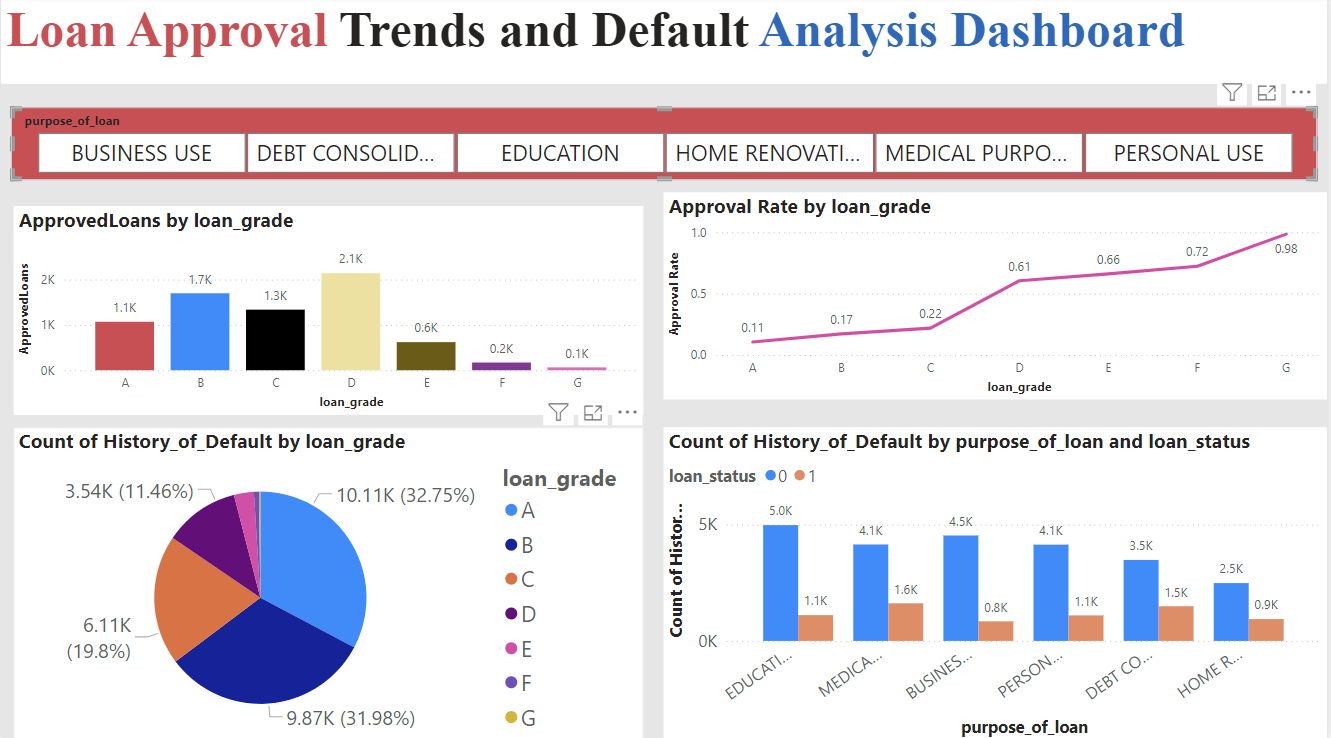

The page's visual inventory and layout, read from the dashboard file:
{"tool":"powerbi","page":{"name":"DAX Examples","canvas":[1280,720],"ordinal":1},"visuals":[{"type":"clusteredColumnChart","fields":{"Y":["CBZ.ApprovedLoans"],"Category":["CBZ.loan_grade"]},"box":[12.3,203.1,607.9,201.7],"z":0},{"type":"pieChart","fields":{"Y":["CountNonNull(CBZ.History_of_Default)"],"Category":["CBZ.loan_grade"]},"box":[12.3,415.8,607.9,304.6],"z":1000},{"type":"slicer","fields":{"Values":["CBZ.purpose_of_loan"]},"box":[9.7,107.4,1260.7,70],"z":2000},{"type":"textbox","box":[0,0,1280,84.5],"z":4000},{"type":"clusteredColumnChart","fields":{"Category":["CBZ.purpose_of_loan"],"Series":["CBZ.loan_status"],"Y":["CountNonNull(CBZ.History_of_Default)"]},"box":[639.4,416.2,640.6,304],"z":6000},{"type":"lineChart","fields":{"Category":["CBZ.loan_grade"],"Y":["CBZ.Approval Rate"]},"box":[639.4,189.4,640.6,200.3],"z":7000}]}

Visuals, with their boxes in screenshot pixels (x1, y1, x2, y2), scaled from the page's 1280x720 canvas onto the 1331x738 screenshot:
clusteredColumnChart - CBZ.ApprovedLoans x CBZ.loan_grade: Rect(13, 208, 645, 415)
pieChart - CountNonNull(CBZ.History_of_Default) x CBZ.loan_grade: Rect(13, 426, 645, 737)
slicer - CBZ.purpose_of_loan: Rect(10, 110, 1321, 182)
textbox: Rect(0, 0, 1330, 87)
clusteredColumnChart - CBZ.purpose_of_loan x CBZ.loan_status: Rect(665, 427, 1330, 737)
lineChart - CBZ.loan_grade x CBZ.Approval Rate: Rect(665, 194, 1330, 399)
